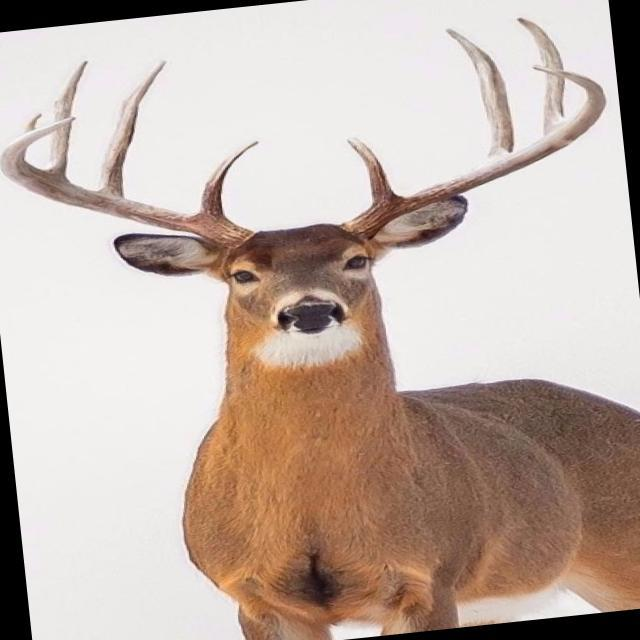L-F: (343, 64, 606, 239)
L-G1: (346, 136, 396, 207)
L-G2: (442, 27, 515, 160)
R-F: (0, 115, 244, 246)
R-G1: (198, 140, 261, 216)
R-G2: (100, 59, 168, 198)
